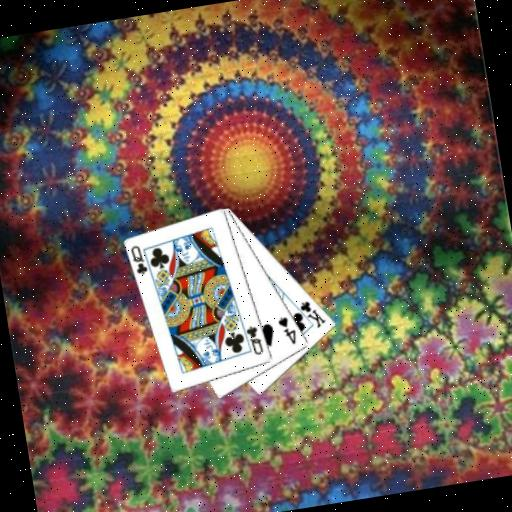4S: (274, 312, 299, 347)
KC: (291, 296, 328, 333)
QC: (242, 322, 265, 358), (127, 241, 150, 277)
